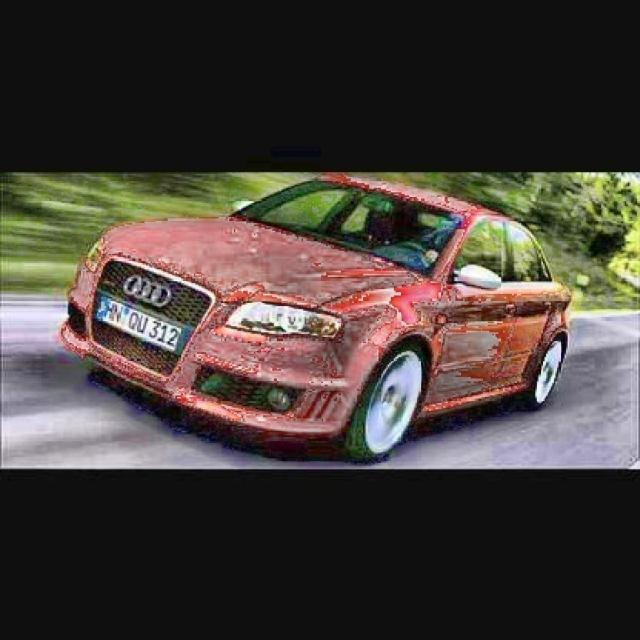maroon: (57, 174, 572, 435)
